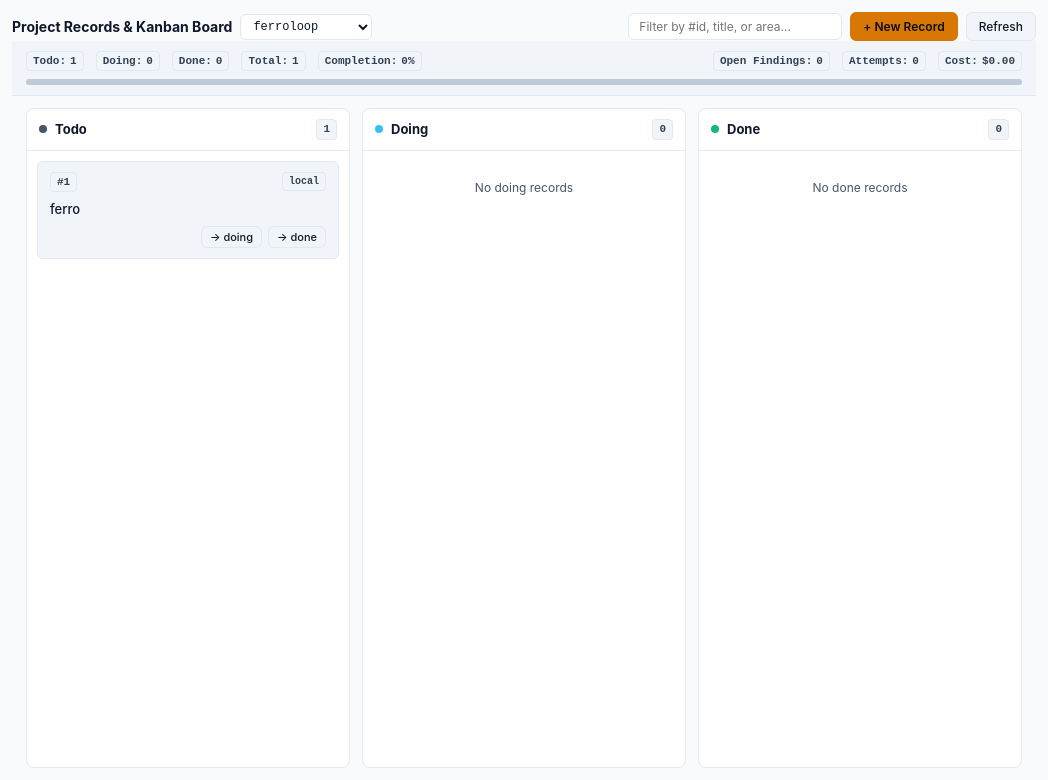
Test: RecordsBoardPane — answers that arrive after the user left the project › does not let an abandoned load's failure or completion clear the newer load
Select "sonora" in the dropdown with test id "board-project-select" at [306, 26], box [240,14,372,40]
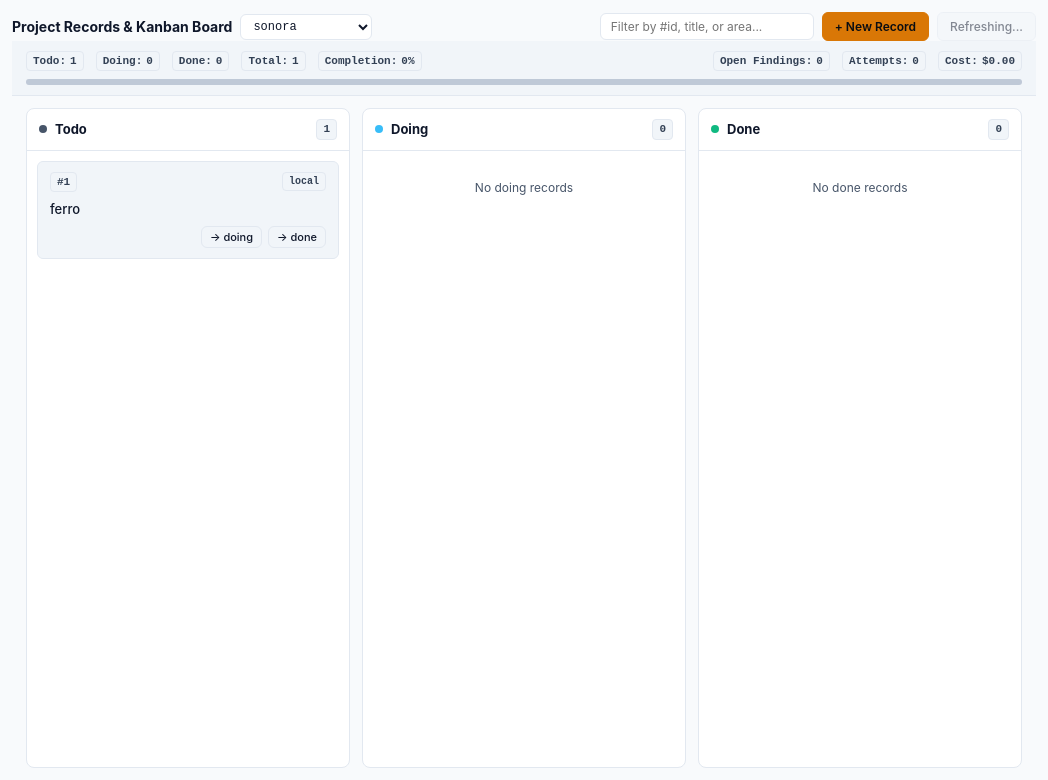
Select "ferroloop" in the dropdown with test id "board-project-select" at [306, 26], box [240,14,372,40]
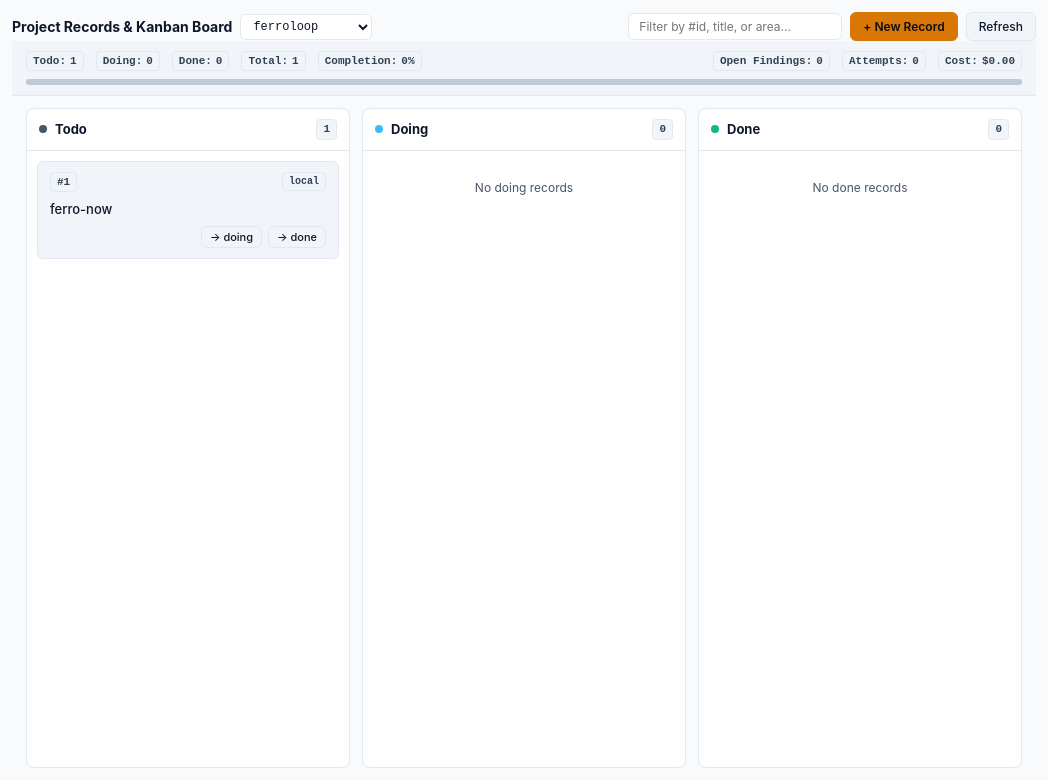
Check: the element with test id "^record-card-" shows "ferro-now", box [50,201,112,217]
